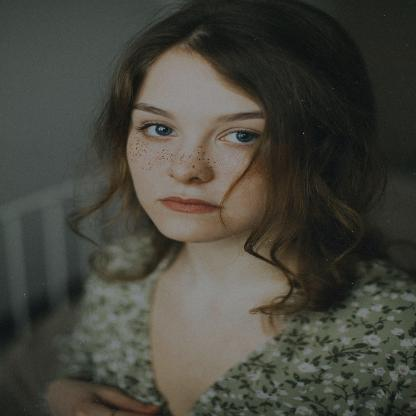Eye: (216, 127, 264, 148), (137, 121, 179, 141)
Mouth: (156, 196, 224, 214)
Nose: (167, 138, 214, 184)
